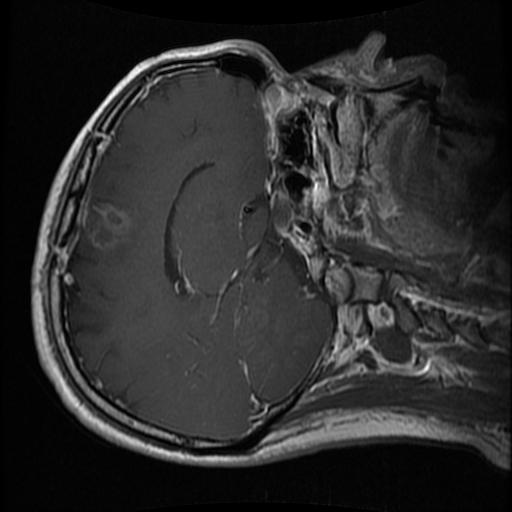glioma: (85, 200, 132, 251)
